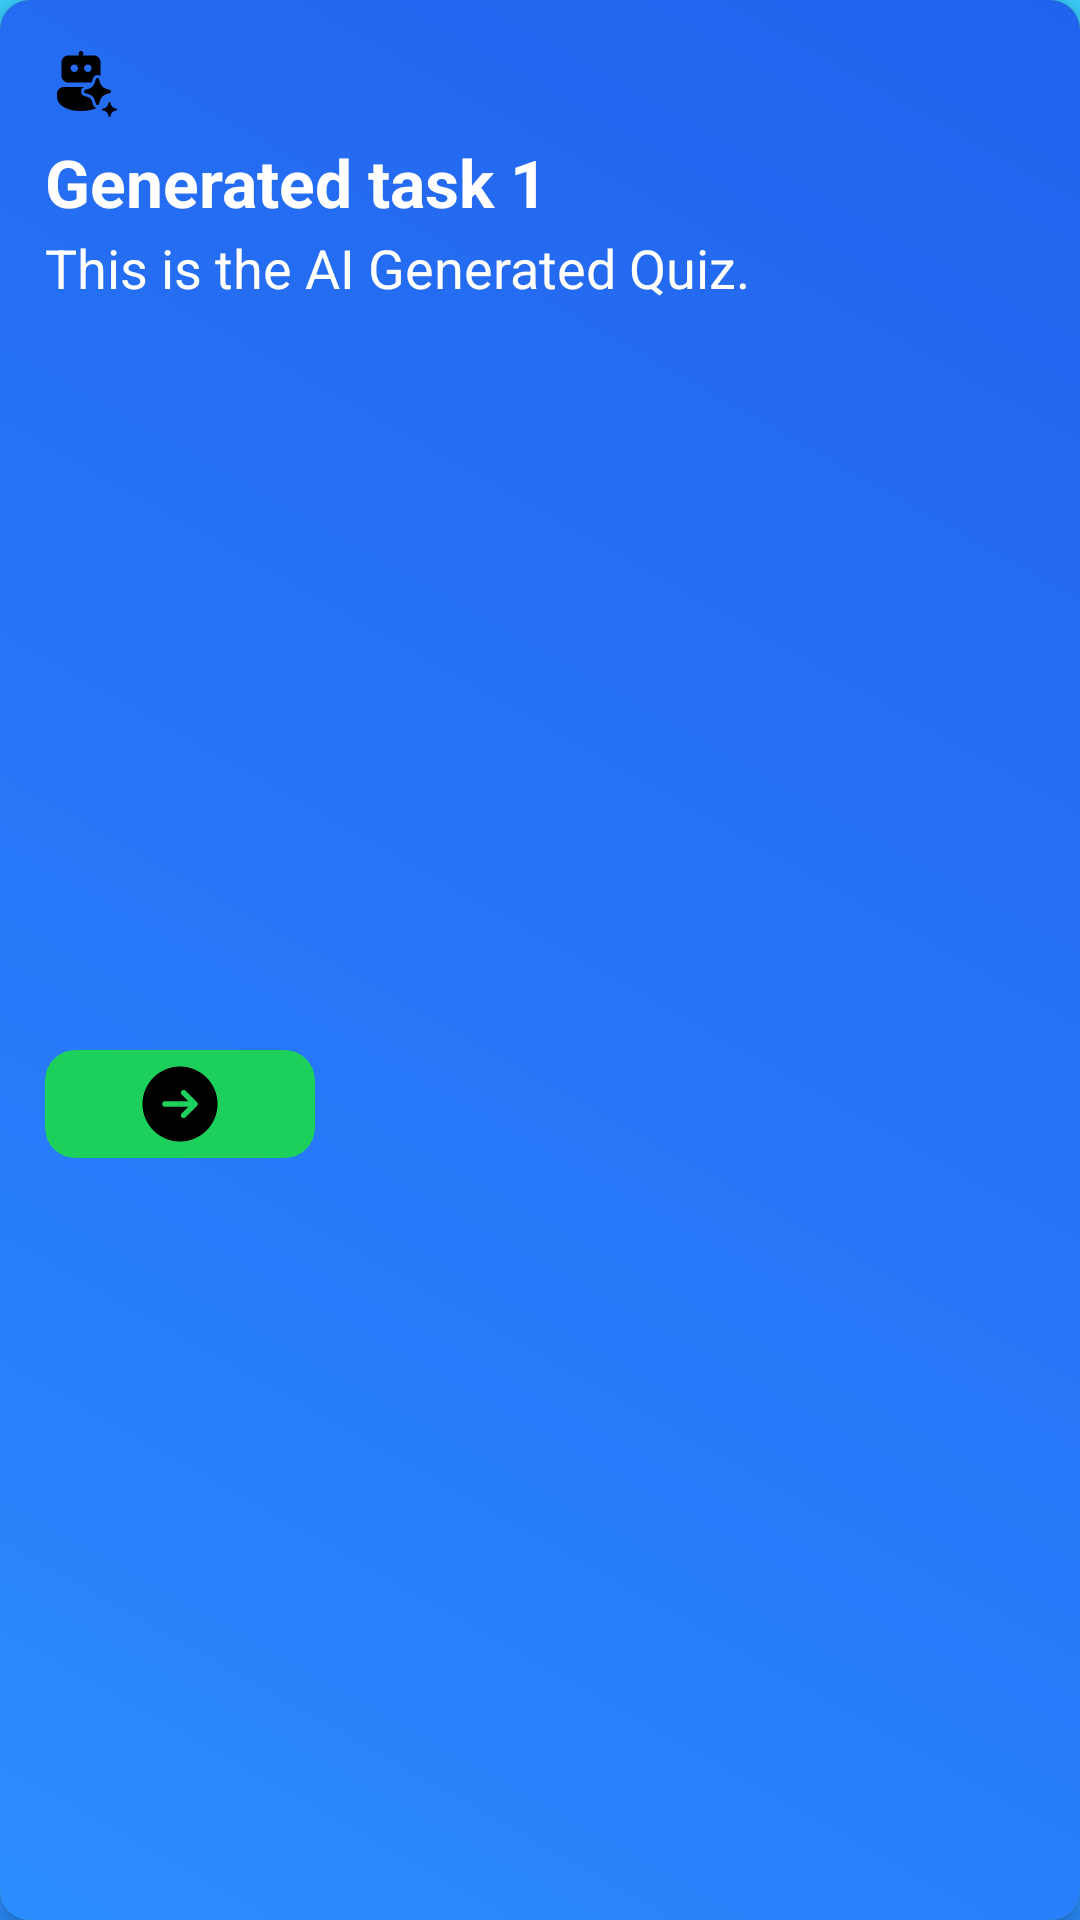

Named icons in this screenshot (1080x1920) and their centers, point (x, y):
arrow right: point (180, 1104)
bot: point (87, 84)
